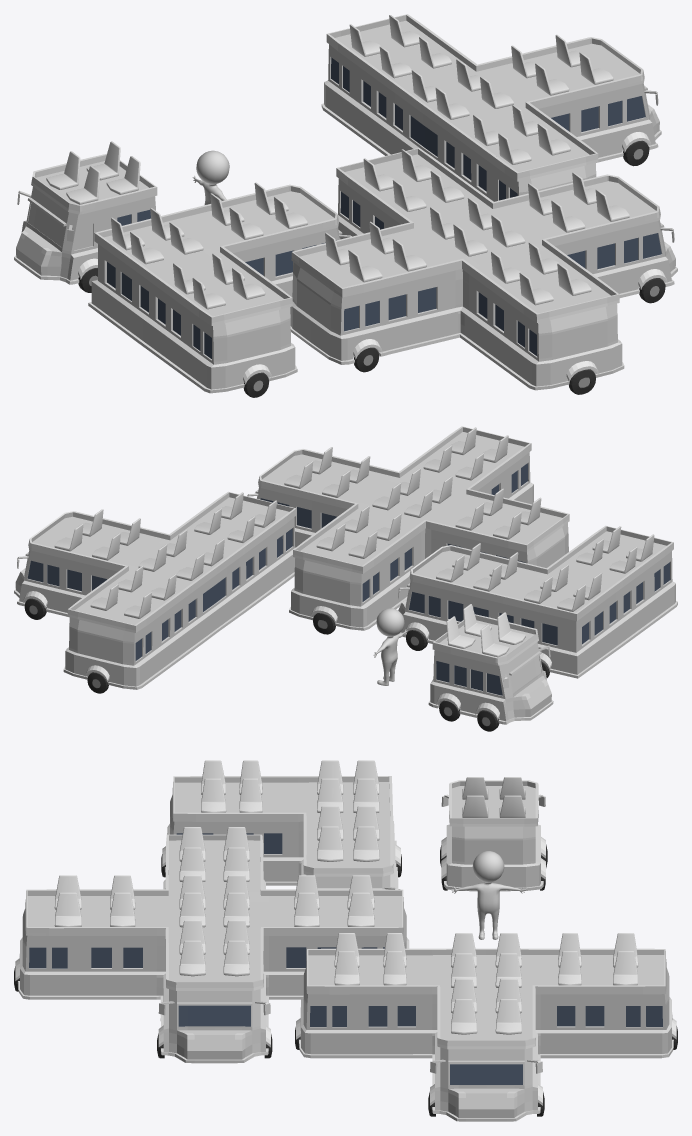
File: All Bus.fbx
3 renders of one model, top to bottom at view 1: azimuth 30°, elevation 25°; view 2: azimuth 150°, elevation 25°; view 3: azimuth 270°, elevation 25°, orthographic. The views are drawn at different scales.
Parts seen in each view (by area): view 1: Plus Bus, Double Bus, L Bus, Shape Bus, Sphere; view 2: Plus Bus, Double Bus, L Bus, Shape Bus, Sphere; view 3: Plus Bus, Double Bus, L Bus, Shape Bus, Sphere.
Boxes of the visible parts, bbox=[...] form: Plus Bus: bbox=[290, 148, 677, 394]; Double Bus: bbox=[321, 14, 661, 201]; L Bus: bbox=[88, 182, 351, 397]; Shape Bus: bbox=[14, 141, 157, 292]; Sphere: bbox=[192, 150, 229, 204]; Plus Bus: bbox=[247, 426, 569, 634]; Double Bus: bbox=[14, 491, 296, 693]; L Bus: bbox=[398, 525, 677, 678]; Shape Bus: bbox=[428, 604, 553, 731]; Sphere: bbox=[373, 608, 407, 685]; Plus Bus: bbox=[14, 827, 409, 1063]; Double Bus: bbox=[295, 933, 677, 1121]; L Bus: bbox=[161, 760, 401, 889]; Shape Bus: bbox=[440, 777, 547, 891]; Sphere: bbox=[451, 851, 525, 939].
Size of the model in its own units: 1888 by 314 by 1874.
